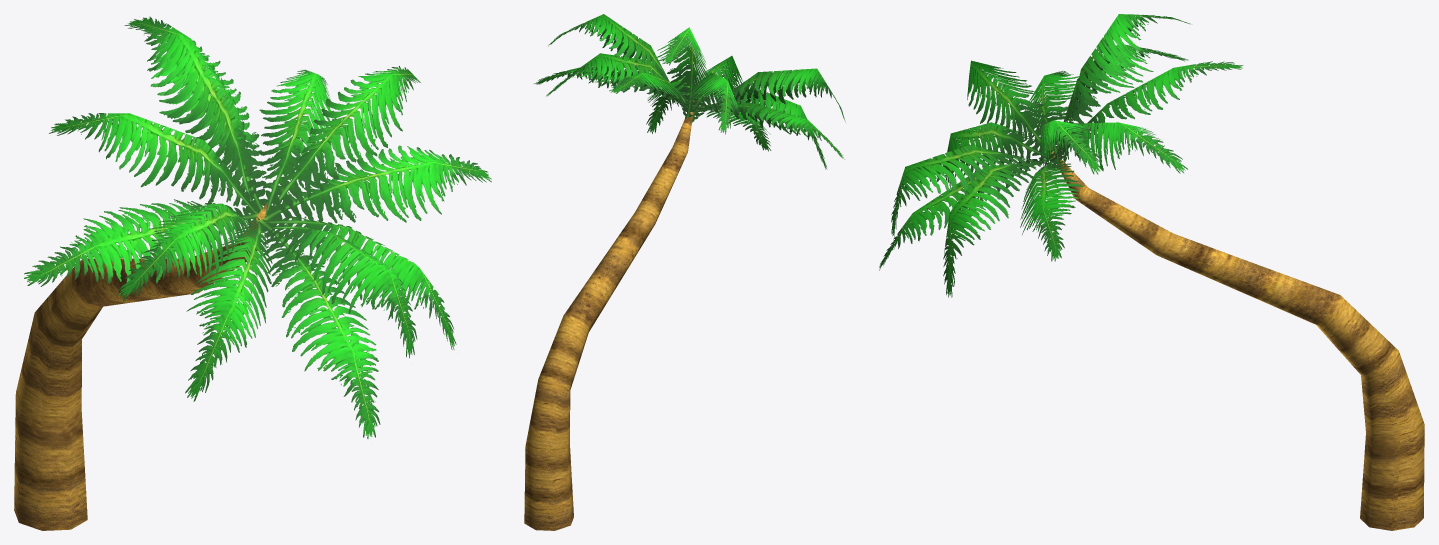
The model's file is palm-05.gltf.
3 renders of one model, left to right at view 1: azimuth 30°, elevation 25°; view 2: azimuth 150°, elevation 25°; view 3: azimuth 270°, elevation 25°, orthographic. The views are drawn at different scales.
Visible parts, largest first — view 1: palm05; view 2: palm05; view 3: palm05.
Part boxes in pixels (bbox=[...]): palm05: bbox=[14, 16, 491, 530]; palm05: bbox=[524, 14, 845, 530]; palm05: bbox=[879, 14, 1424, 530].
Size of the model in its own units: 70.29 by 87.28 by 88.49.
Materials: 2 (2 with a texture image).
